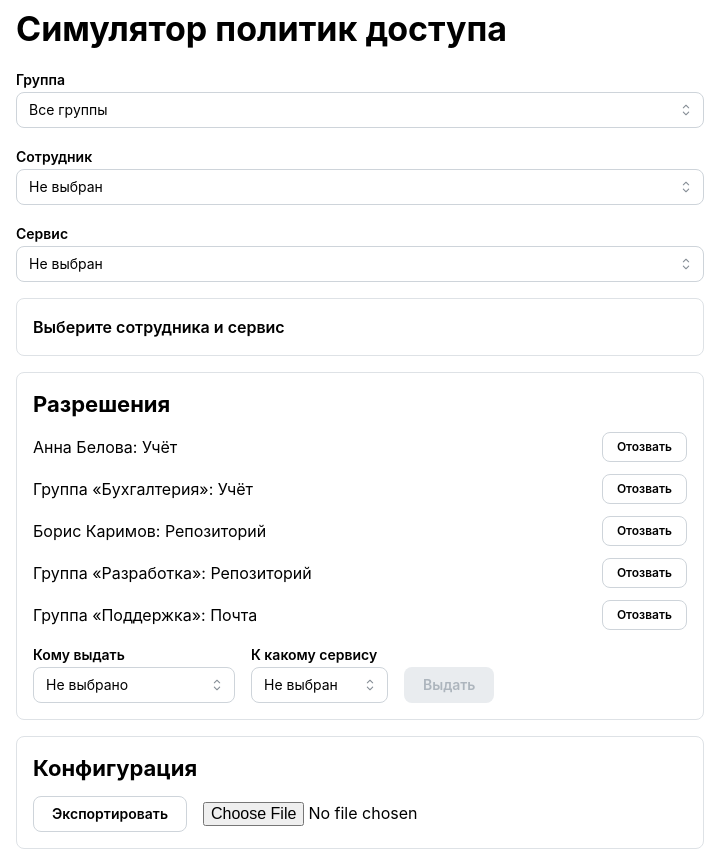
Test: экран расчёта доступа › сообщает об отсутствии доступа
This screenshot has width=721, height=866.
Select "Вера Лисицына" in the dropdown with test id "user-select" at {"x": 360, "y": 187}, box [16,169,704,205]
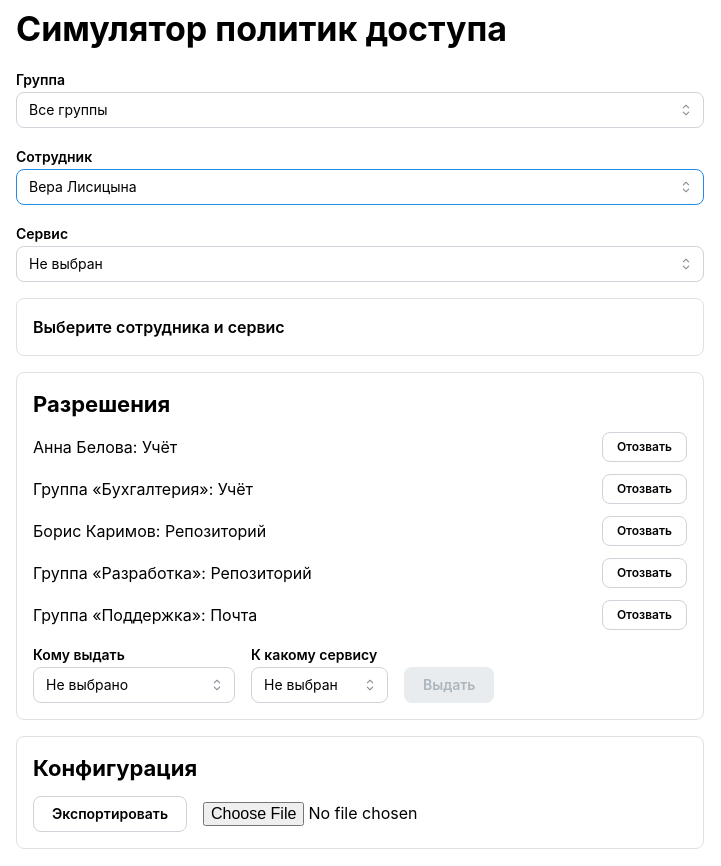
Select "Учёт" in the dropdown with test id "service-select" at {"x": 360, "y": 264}, box [16,246,704,282]
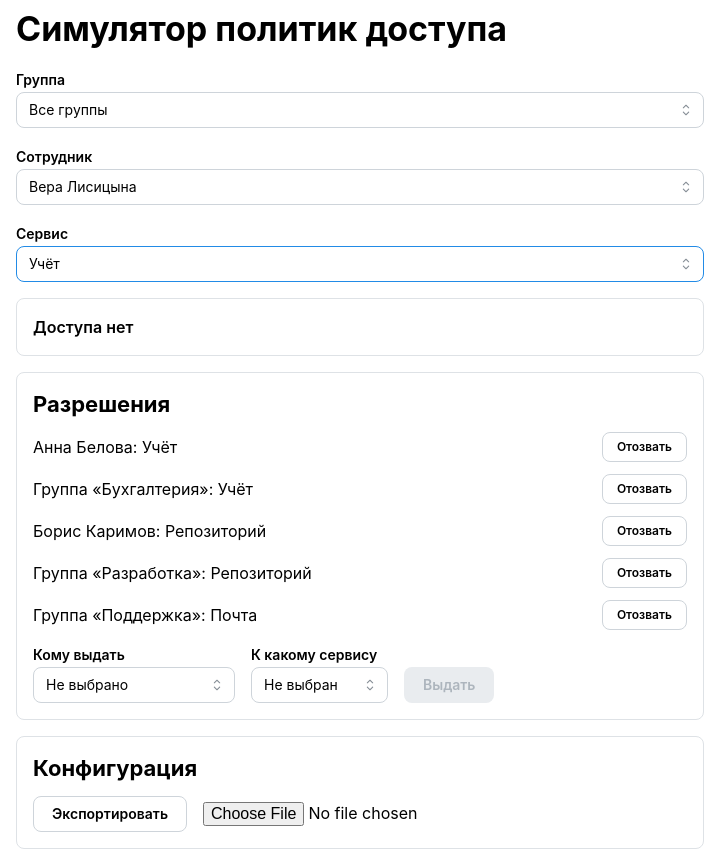
Check: the text with test id "access-result" reads "Доступа нет", box [33,317,133,337]
